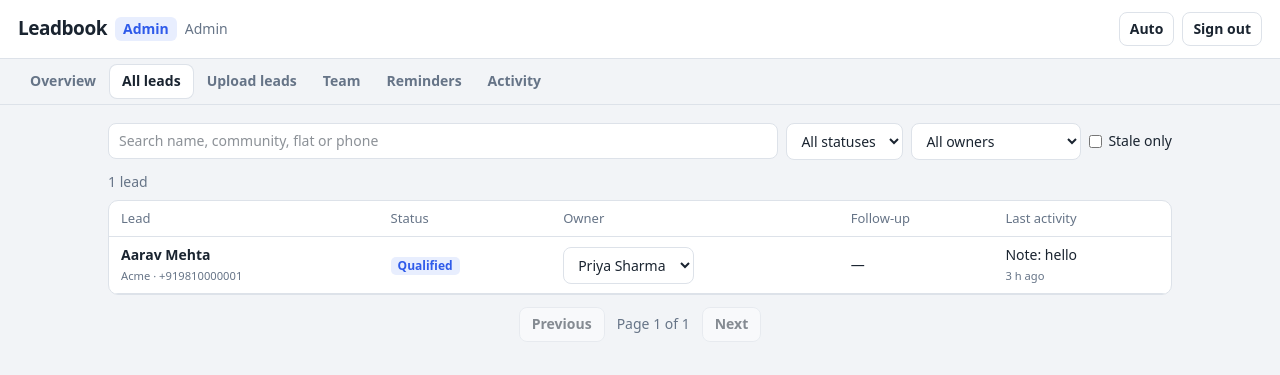
Test: All leads (7.2) and the read-only drawer (7.3) › shows the API's message when reassigning fails
Select "Rohan Verma" in the dropdown named "Owner of Aarav Mehta" at (629, 265), box [563,246,694,284]
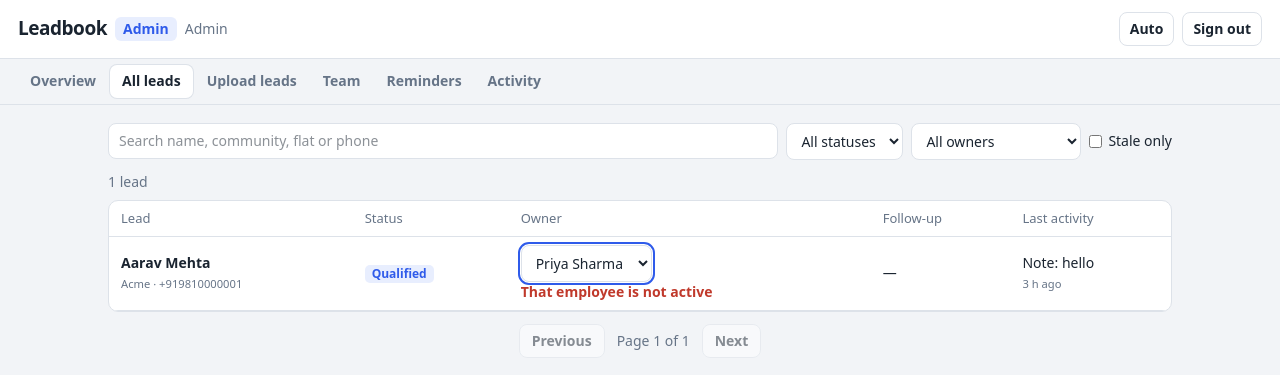
Now the message reads "That employee is not active", box [521,282,712,301]
